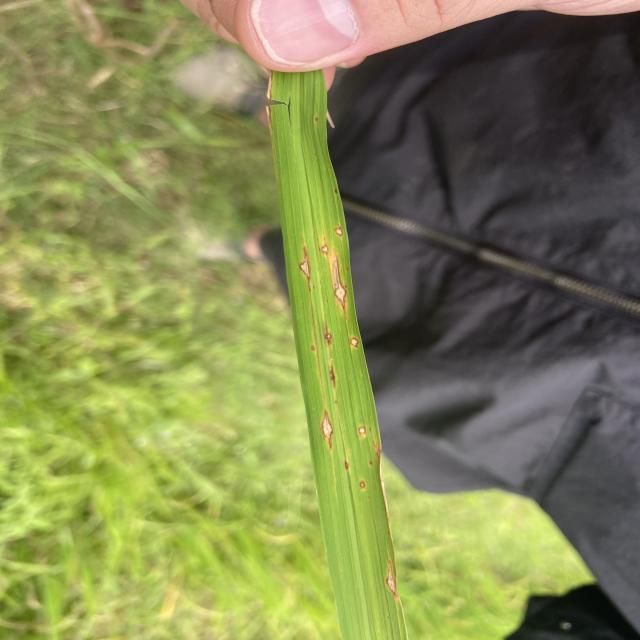Dao on: (333, 253, 348, 320), (320, 408, 334, 452), (385, 560, 400, 601), (298, 245, 311, 286), (357, 425, 367, 438), (349, 337, 359, 348), (325, 333, 332, 345), (335, 227, 343, 237), (321, 246, 329, 254), (359, 480, 366, 489), (344, 461, 349, 470)
